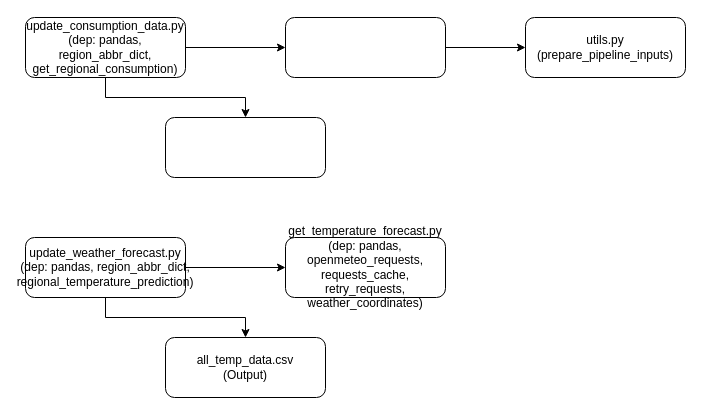
Some shapes in this 703 by 415 pixel diagram are drawn without their labels. The shapes that lost their labels are listed below. From the top down, each one's centre as x and y in pixels, then its label:
(365,47): get_consumption_data.py (dep: pandas, requests, utils.py)
(245,147): all_cons_data.csv (Output)
